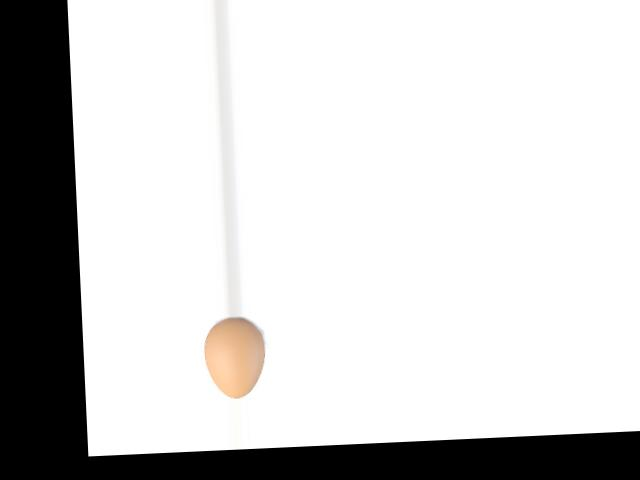egg: (203, 316, 267, 398)
